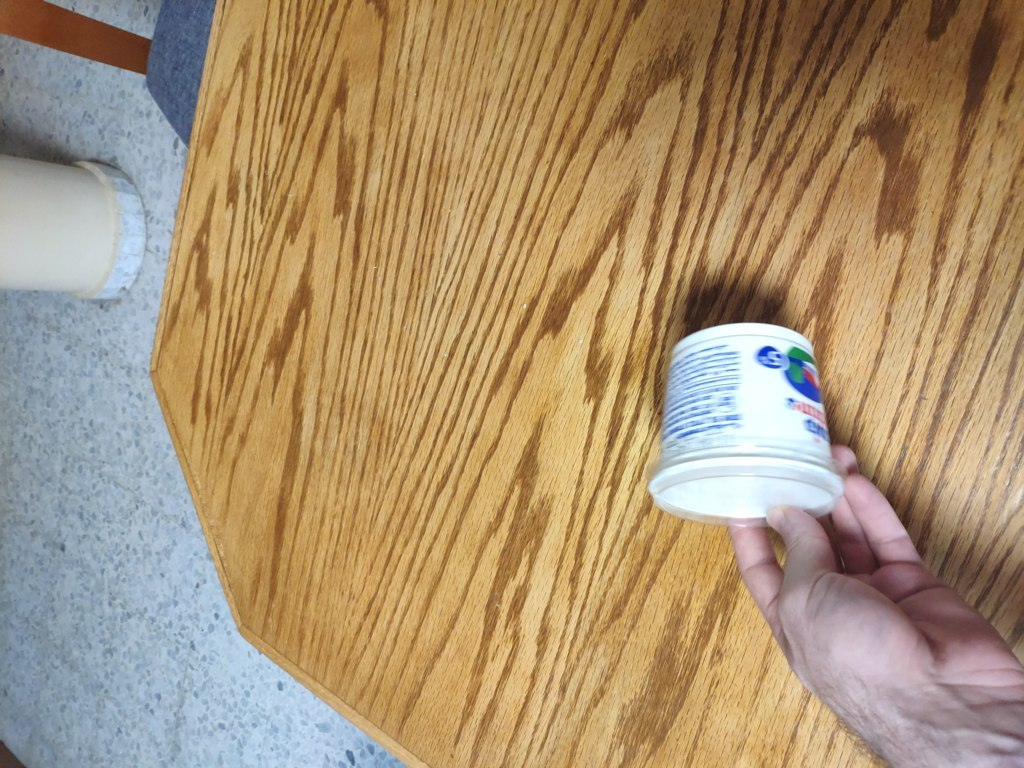Cotage: (611, 326, 805, 515)
